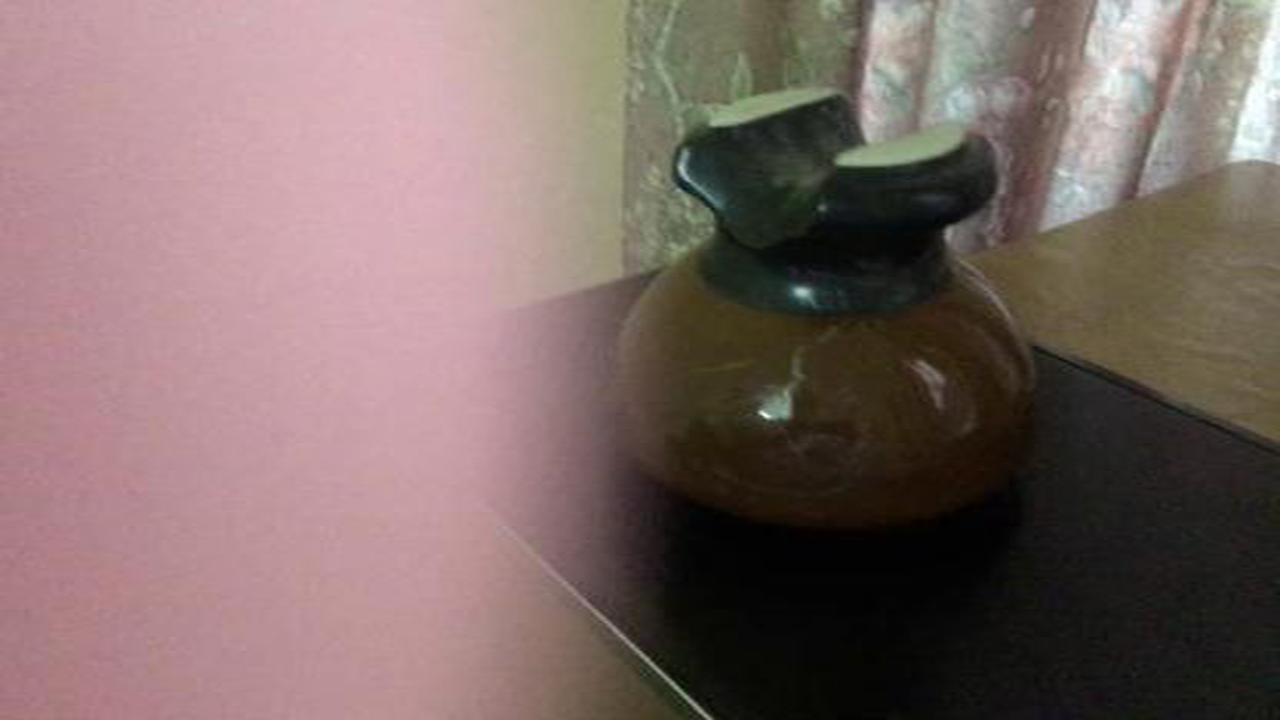insulator_pin: (573, 68, 1062, 561)
